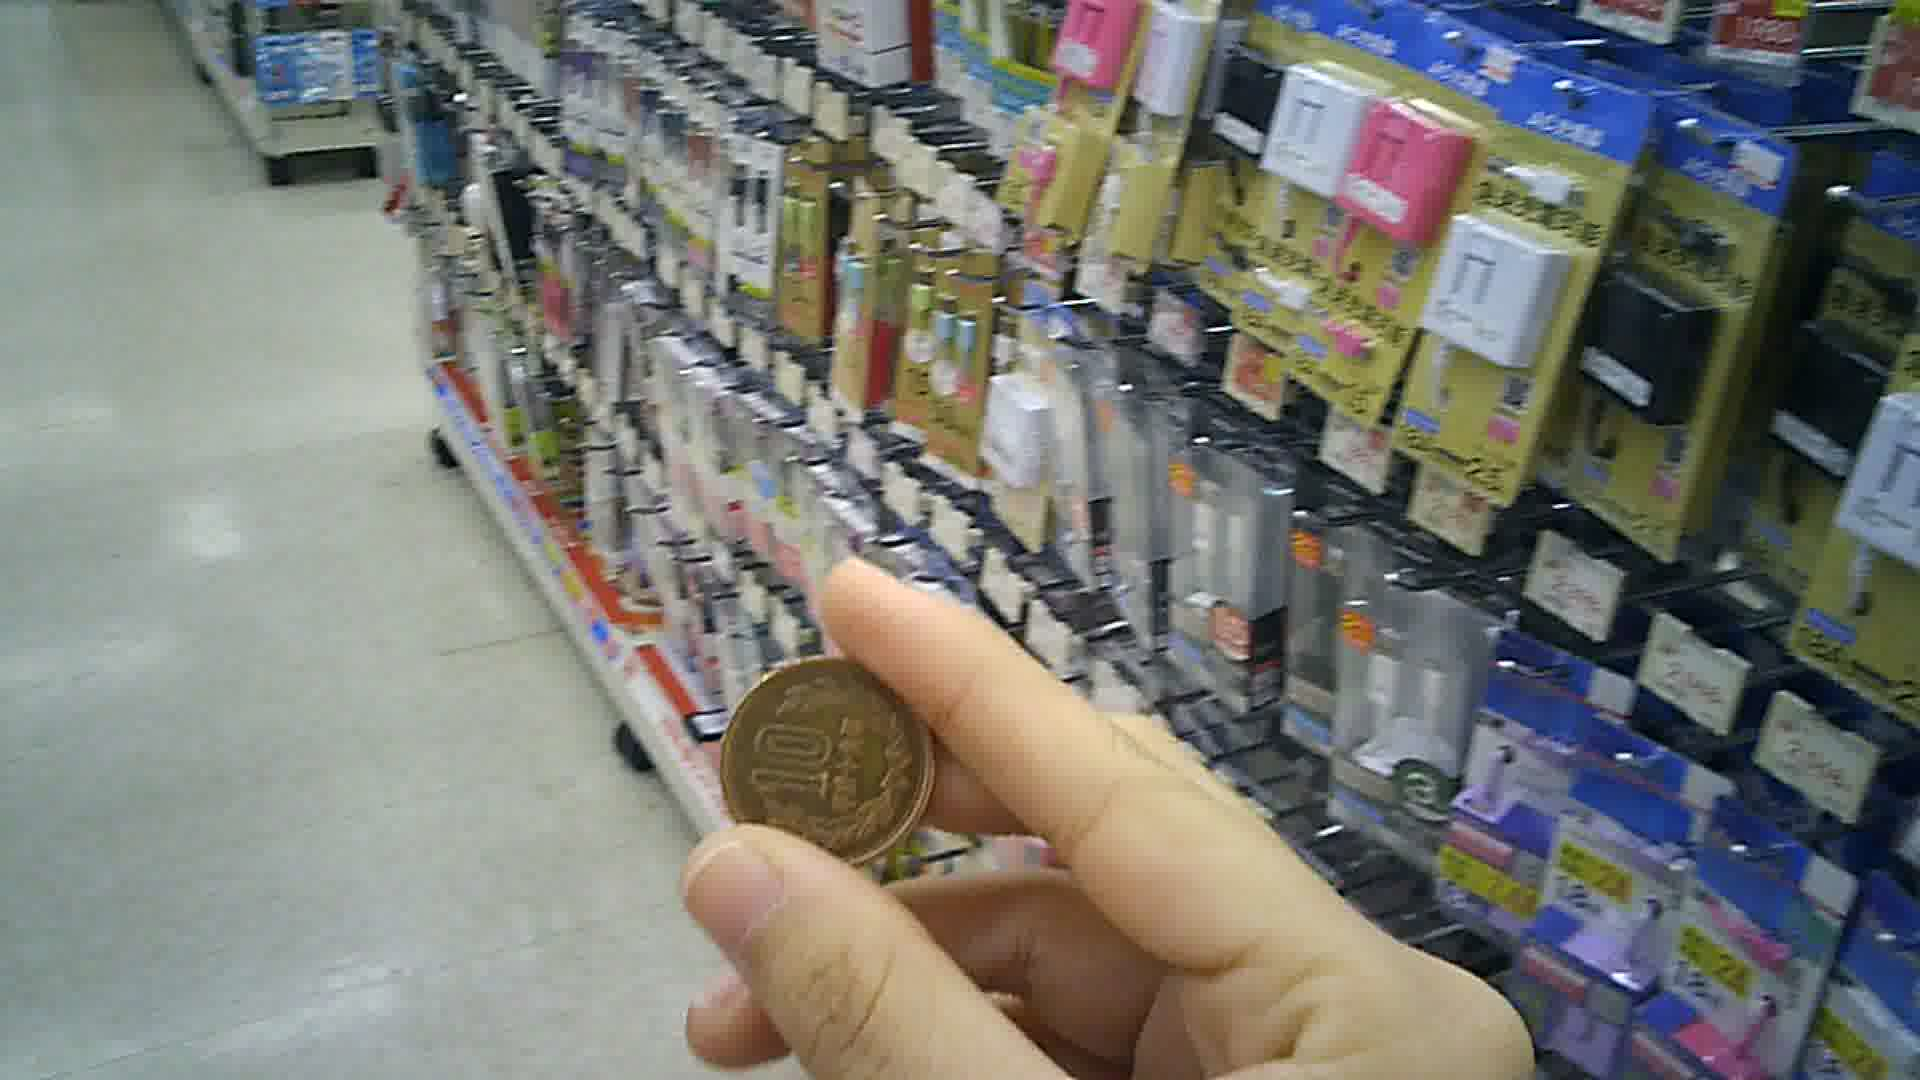10 Yen: (713, 647, 942, 884)
